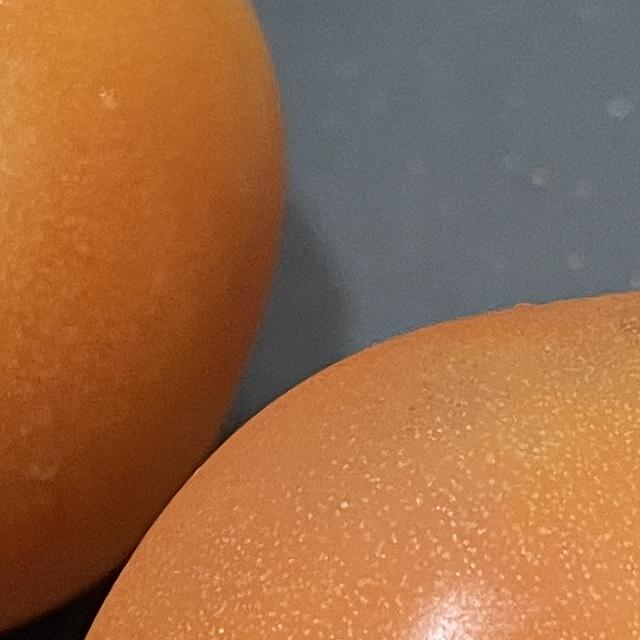tomato: (0, 0, 640, 640), (1, 262, 640, 640), (0, 0, 291, 640)
